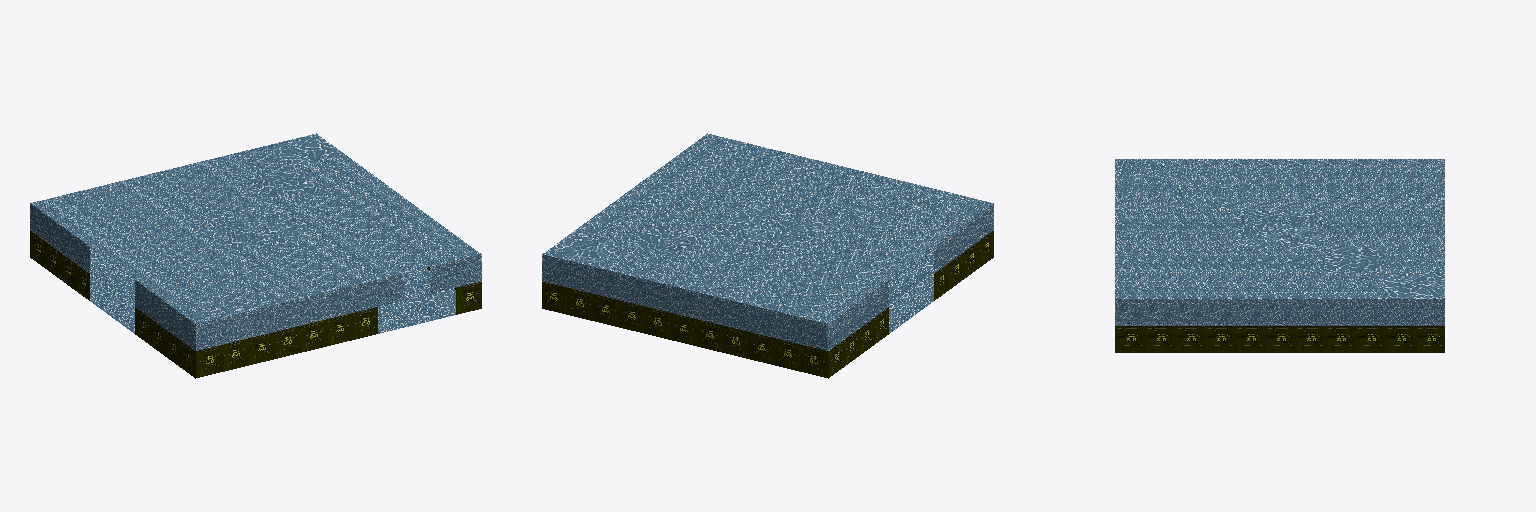
3 views of the same model, side by side, from view 1: azimuth 30°, elevation 25°; view 2: azimuth 150°, elevation 25°; view 3: azimuth 270°, elevation 25° (orthographic).
Parts seen in each view (by area): view 1: building1, building1_wall, building1_floor; view 2: building1, building1_wall, building1_floor; view 3: building1, building1_wall.
Boxes of the visible parts, box(x1,y1,x2,y2) form: building1: box(30, 133, 481, 350); building1_wall: box(30, 231, 481, 378); building1_floor: box(90, 247, 455, 333); building1: box(542, 133, 993, 350); building1_wall: box(542, 231, 993, 378); building1_floor: box(889, 247, 933, 333); building1: box(1115, 159, 1444, 325); building1_wall: box(1115, 326, 1444, 352).
Bounding box in the file's own units: 220 × 40 × 220.
Materials: 3 (3 with a texture image).